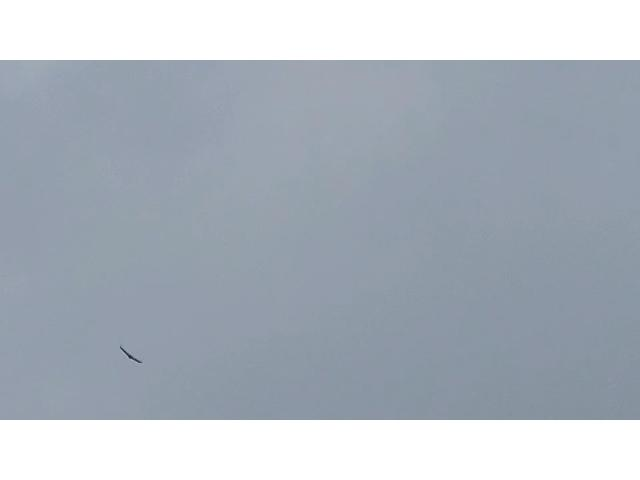Anti-Drone: (118, 344, 144, 364)
